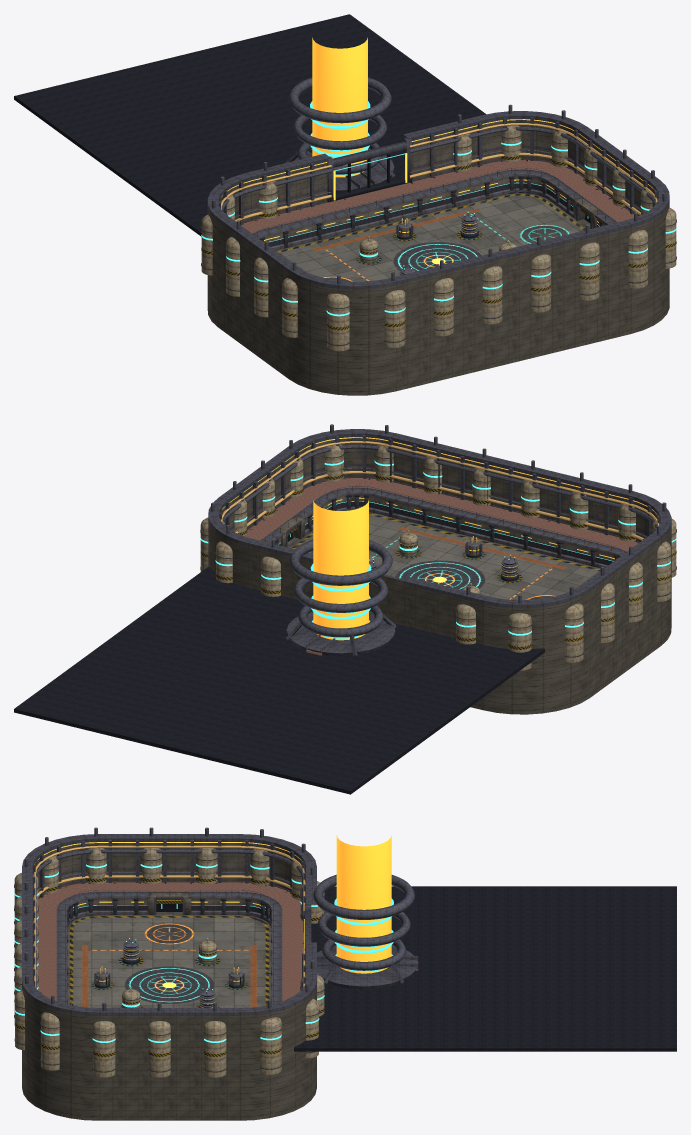
File: arena_reactor.glb
3 renders of one model, top to bottom at view 1: azimuth 30°, elevation 25°; view 2: azimuth 150°, elevation 25°; view 3: azimuth 270°, elevation 25°, orthographic.
Visible parts, largest first — view 1: Decor, Hull, Gallery, Ground, Walls; view 2: Decor, Gallery, Hull, Ground, Walls; view 3: Decor, Hull, Gallery, Ground, Walls.
Boxes of the visible parts, bbox=[...] form: Decor: bbox=[14, 14, 676, 351]; Hull: bbox=[207, 201, 669, 395]; Gallery: bbox=[207, 111, 669, 289]; Ground: bbox=[276, 193, 590, 281]; Walls: bbox=[254, 170, 615, 250]; Decor: bbox=[14, 424, 676, 794]; Gallery: bbox=[208, 429, 671, 608]; Hull: bbox=[208, 520, 671, 714]; Ground: bbox=[287, 512, 600, 599]; Walls: bbox=[262, 488, 625, 568]; Decor: bbox=[14, 827, 676, 1077]; Hull: bbox=[22, 911, 316, 1120]; Gallery: bbox=[22, 834, 316, 1015]; Ground: bbox=[67, 912, 271, 1007]; Walls: bbox=[57, 892, 281, 1004].
Size of what is drawn, in the model's own units: 68.77 by 34.5 by 104.
12 materials, 7 textured.
